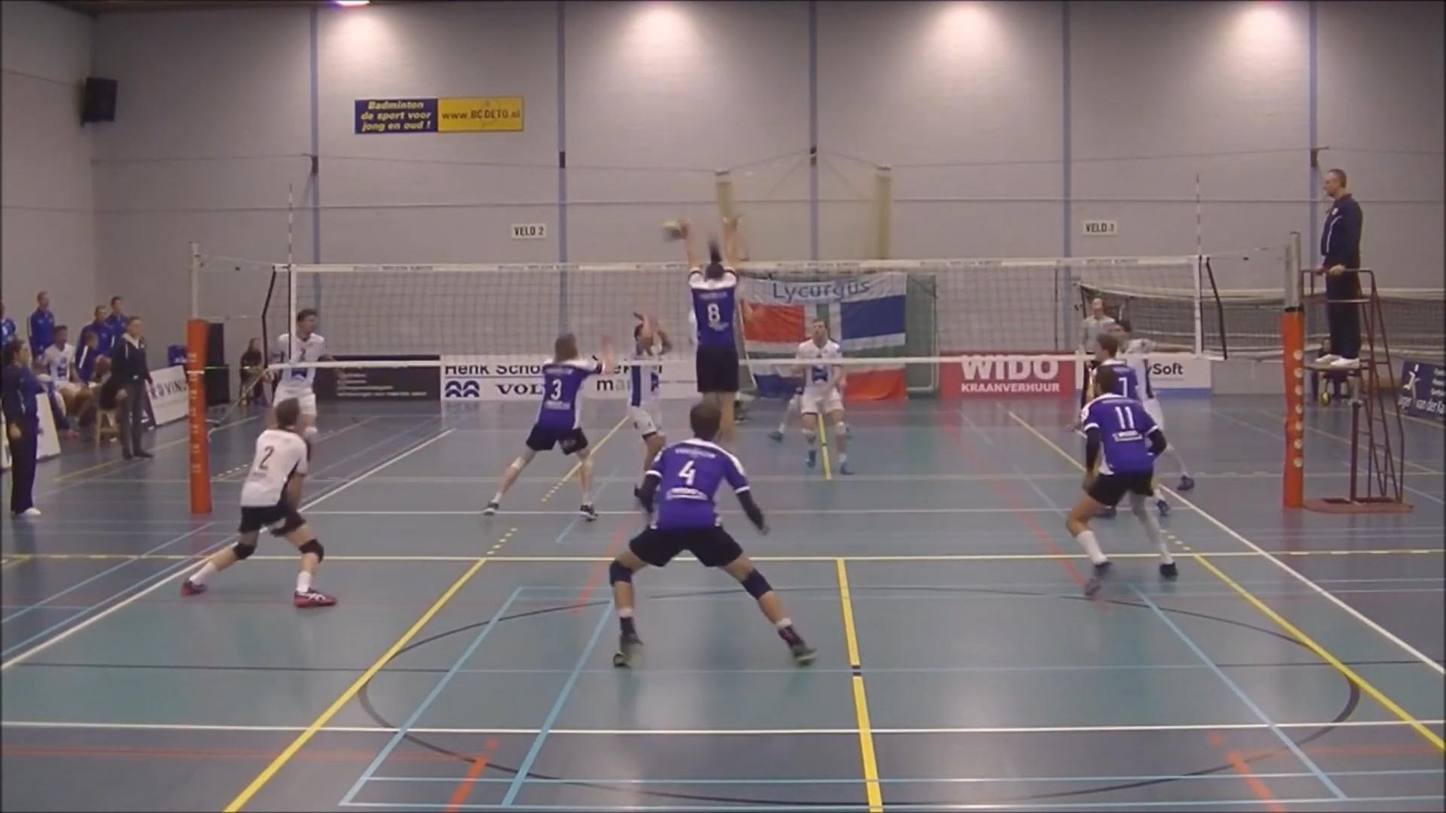Block: (663, 223, 751, 453)
Player: (609, 403, 815, 666), (182, 398, 336, 607), (1066, 364, 1177, 595), (483, 333, 612, 521), (795, 320, 852, 474), (629, 314, 672, 473), (1118, 319, 1164, 431), (1085, 321, 1137, 403), (273, 366, 316, 448), (769, 378, 803, 442)
ball: (667, 220, 689, 245)
